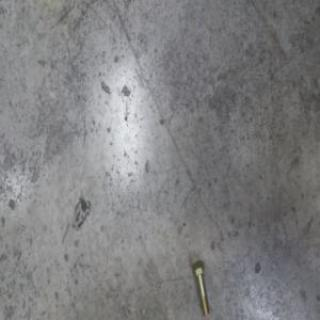Bolttrack_idkeyframe: (191, 259, 209, 316)
